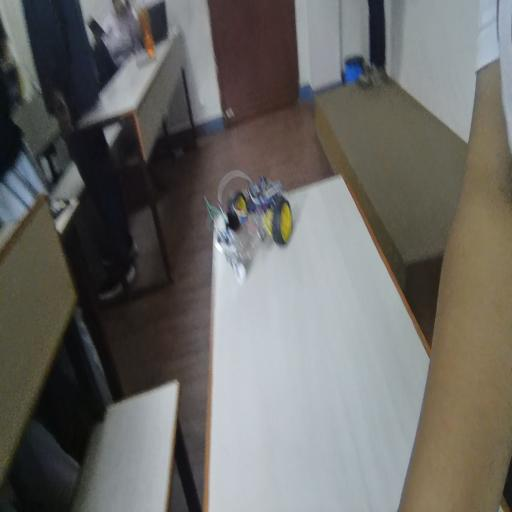car: (205, 146, 321, 290)
